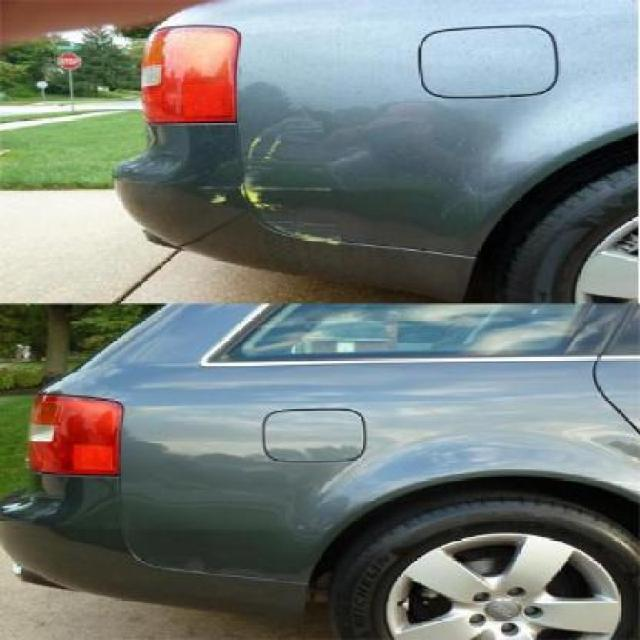scratch: (233, 113, 367, 255)
